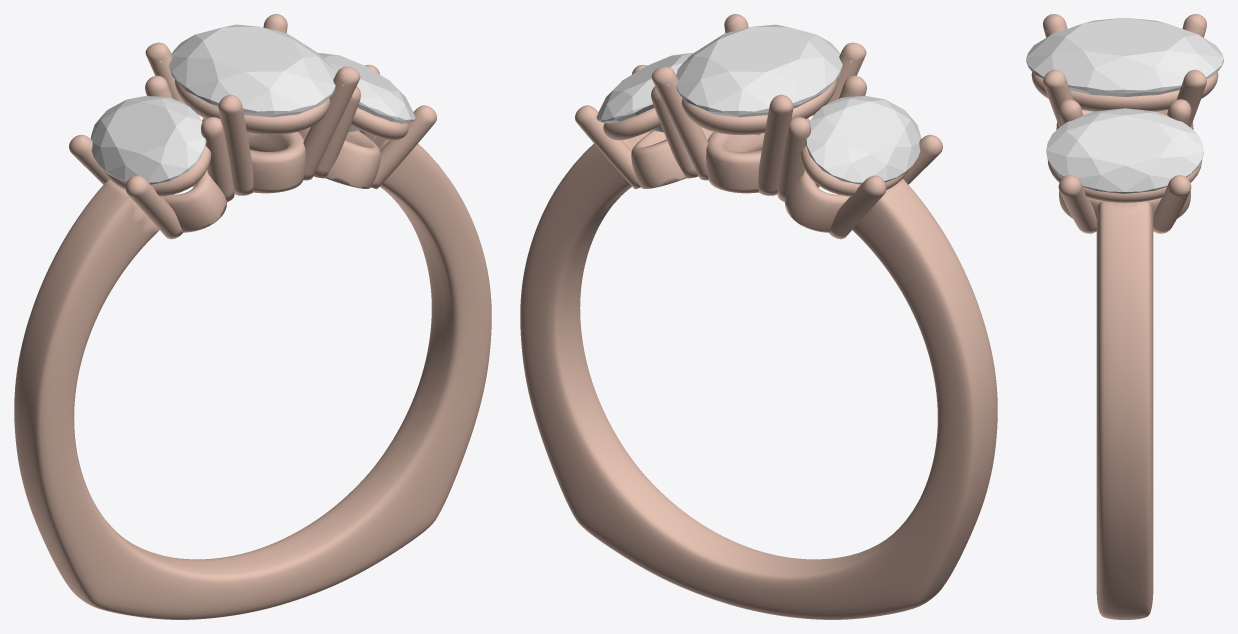
Rendered from diamond-oval-rosegold-4prong-europeanshank-3stone.glb.
The picture shows the model from 3 angles, left to right: view 1: azimuth 30°, elevation 25°; view 2: azimuth 150°, elevation 25°; view 3: azimuth 270°, elevation 25°; orthographic projection.
Visible parts, largest first — view 1: metal, stone, side.001, side; view 2: metal, stone, side.001, side; view 3: metal, stone, side.
Boxes of the visible parts, x1,y1,x2,y2 form: metal: [14, 14, 491, 619]; stone: [169, 24, 335, 135]; side.001: [90, 96, 206, 184]; side: [318, 53, 415, 132]; metal: [520, 14, 997, 619]; stone: [676, 24, 842, 135]; side.001: [805, 96, 921, 184]; side: [596, 53, 693, 132]; metal: [1031, 14, 1218, 619]; stone: [1026, 17, 1223, 96]; side: [1046, 108, 1203, 193].
Size of the model in its own units: 20.1 by 23.21 by 7.64.
